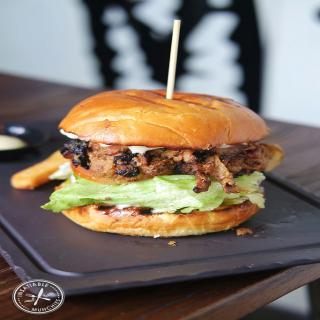Hamburger: (42, 90, 284, 237)
